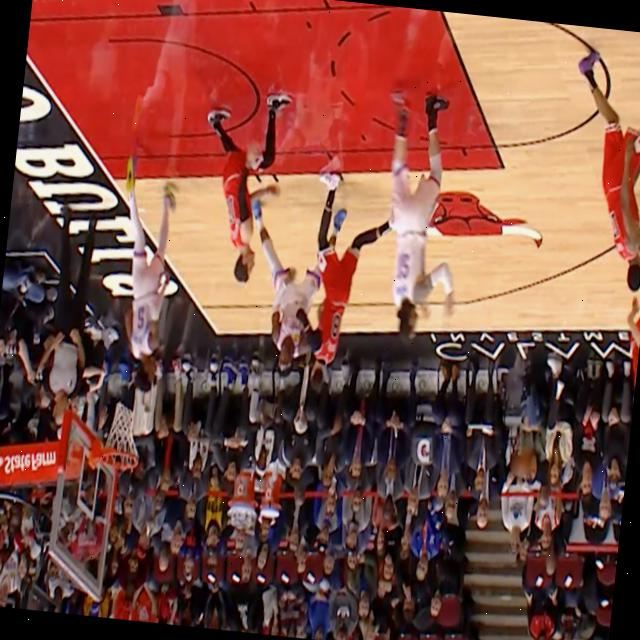no foul: (237, 136, 396, 402)
